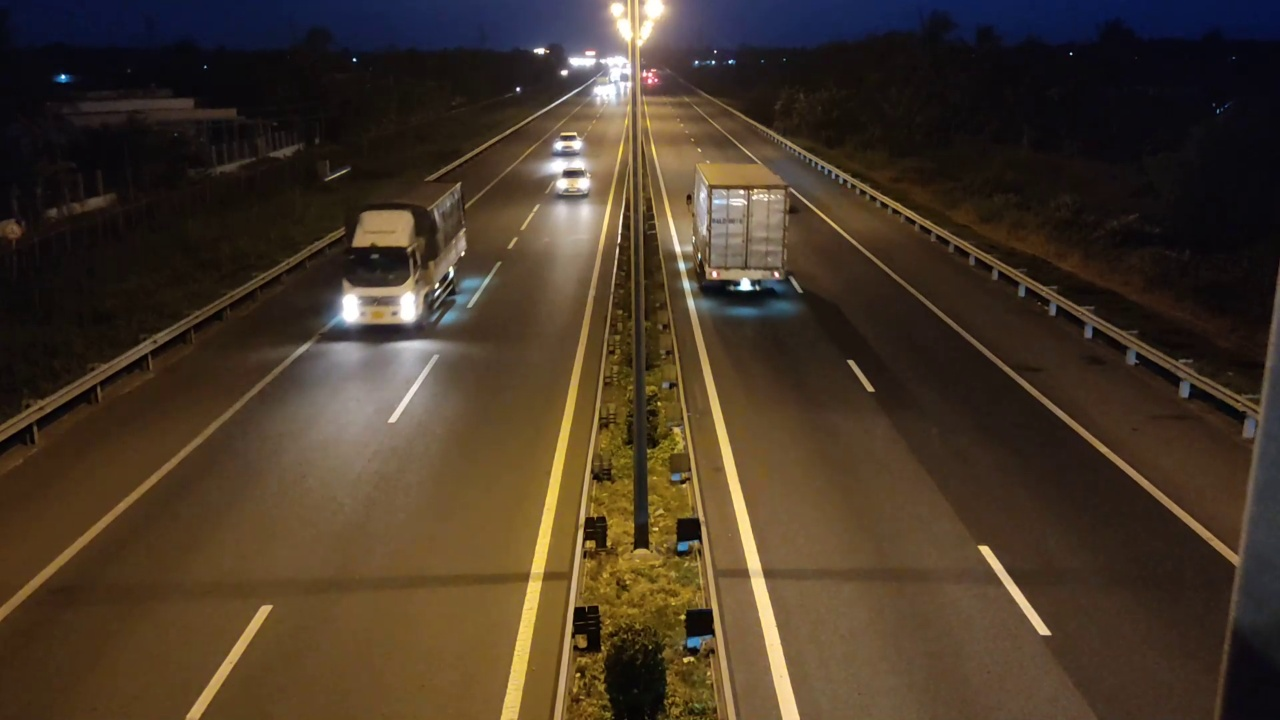car: (553, 163, 591, 197), (551, 131, 584, 157)
truck: (341, 180, 469, 330), (687, 162, 791, 294)
